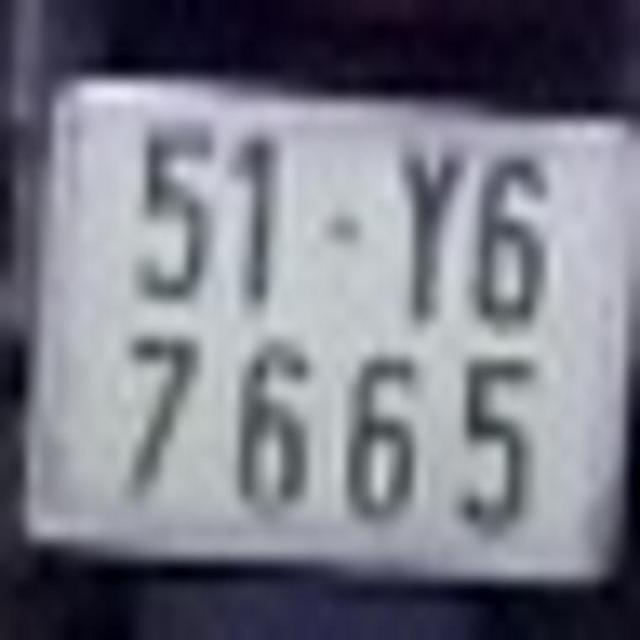1: (228, 127, 283, 308)
5: (449, 344, 537, 535), (130, 118, 220, 302)
6: (225, 317, 320, 522), (471, 144, 548, 335), (340, 338, 415, 528)
7: (111, 324, 205, 516)
Y: (386, 132, 466, 327)
